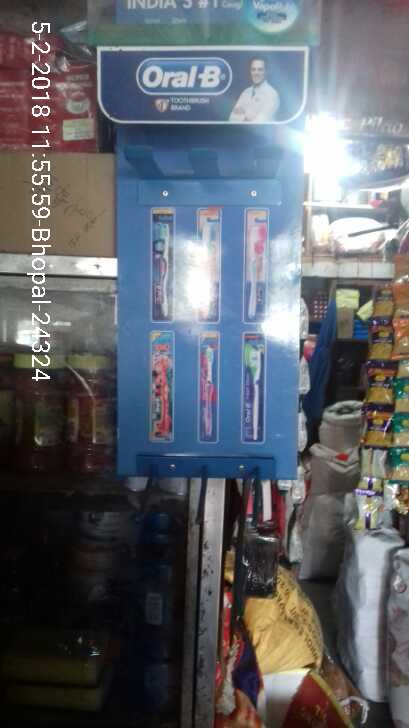oralb: (145, 207, 176, 335), (191, 200, 222, 328), (239, 198, 270, 326), (238, 329, 269, 456), (145, 334, 176, 452), (195, 331, 217, 456)
